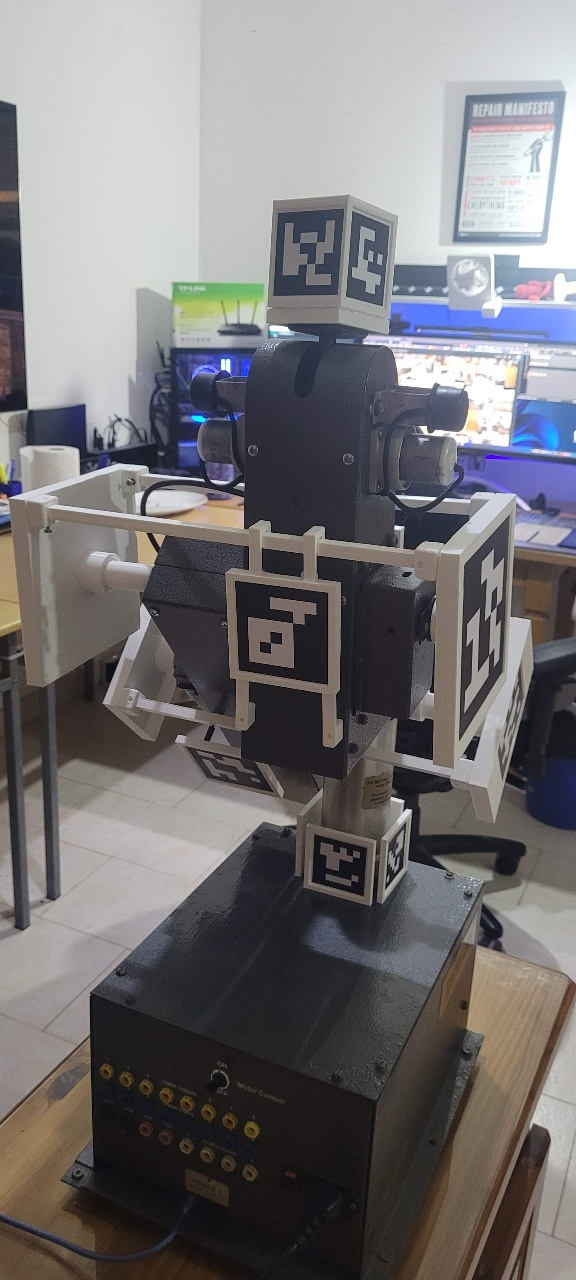Robot: (6, 193, 530, 909)
